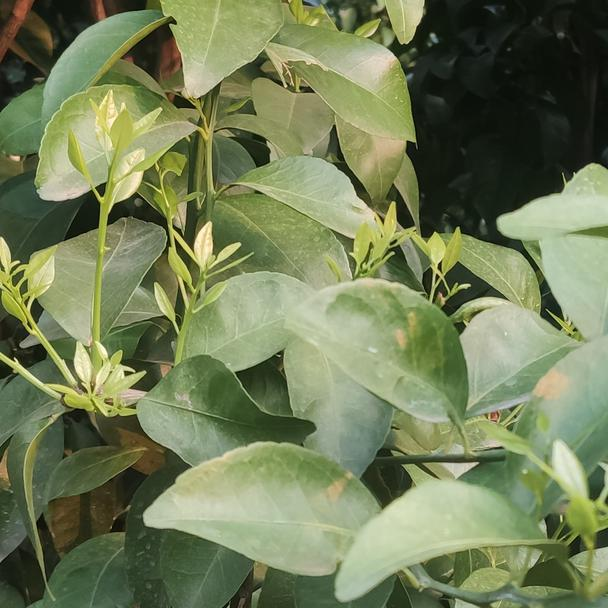shoot: (71, 101, 179, 250), (158, 227, 246, 343), (2, 239, 60, 352), (344, 203, 411, 269)
